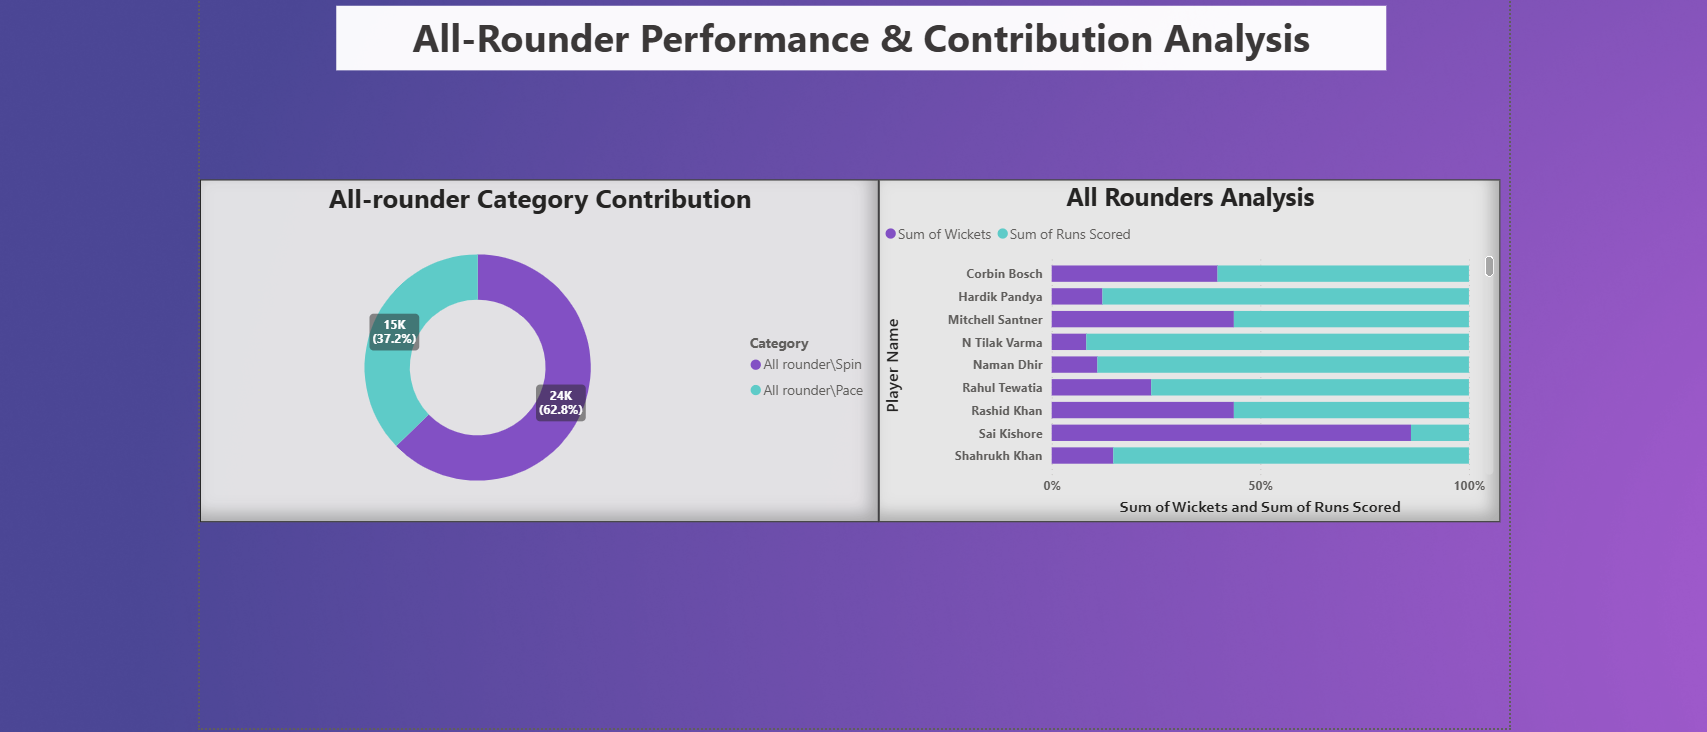

The dashboard page shown, as its layout file describes it:
{"tool":"powerbi","page":{"name":"Page 3","canvas":[1280,720],"ordinal":2},"visuals":[{"type":"donutChart","title":"All-rounder Category Contribution","fields":{"Category":["Sheet1 (2).Category"],"Y":["Sum(Sheet1.Runs Scored)"]},"box":[200.4,36,457.1,334.6],"z":0},{"type":"hundredPercentStackedBarChart","title":"All Rounders Analysis","fields":{"Category":["Sheet1.Player Name","Sheet1 (2).Player Name"],"Y":["Sum(Sheet1 (2).Wickets)","Sum(Sheet1.Runs Scored)"]},"box":[200.4,378.4,457.1,334.6],"z":1}]}

Visuals, with their boxes on the page's 1280x720 design canvas (x1, y1, x2, y2). These are canvas units, not pixel positions in the 1707x732 screenshot, which may show the page scaled, cropped or inside an application window:
"All-rounder Category Contribution" donutChart: 200, 36, 658, 371
"All Rounders Analysis" hundredPercentStackedBarChart: 200, 378, 658, 713
